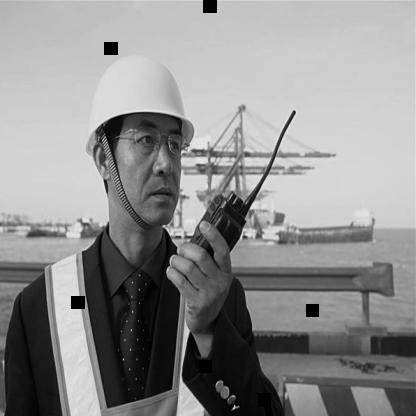helmet: (70, 28, 212, 253)
